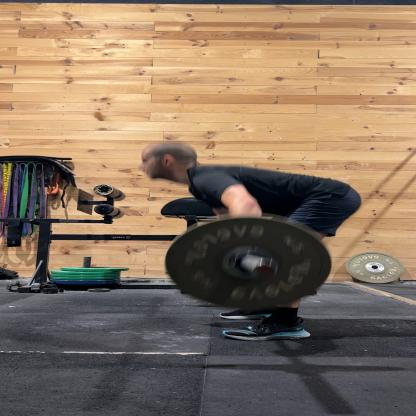barbell: (166, 218, 334, 311)
